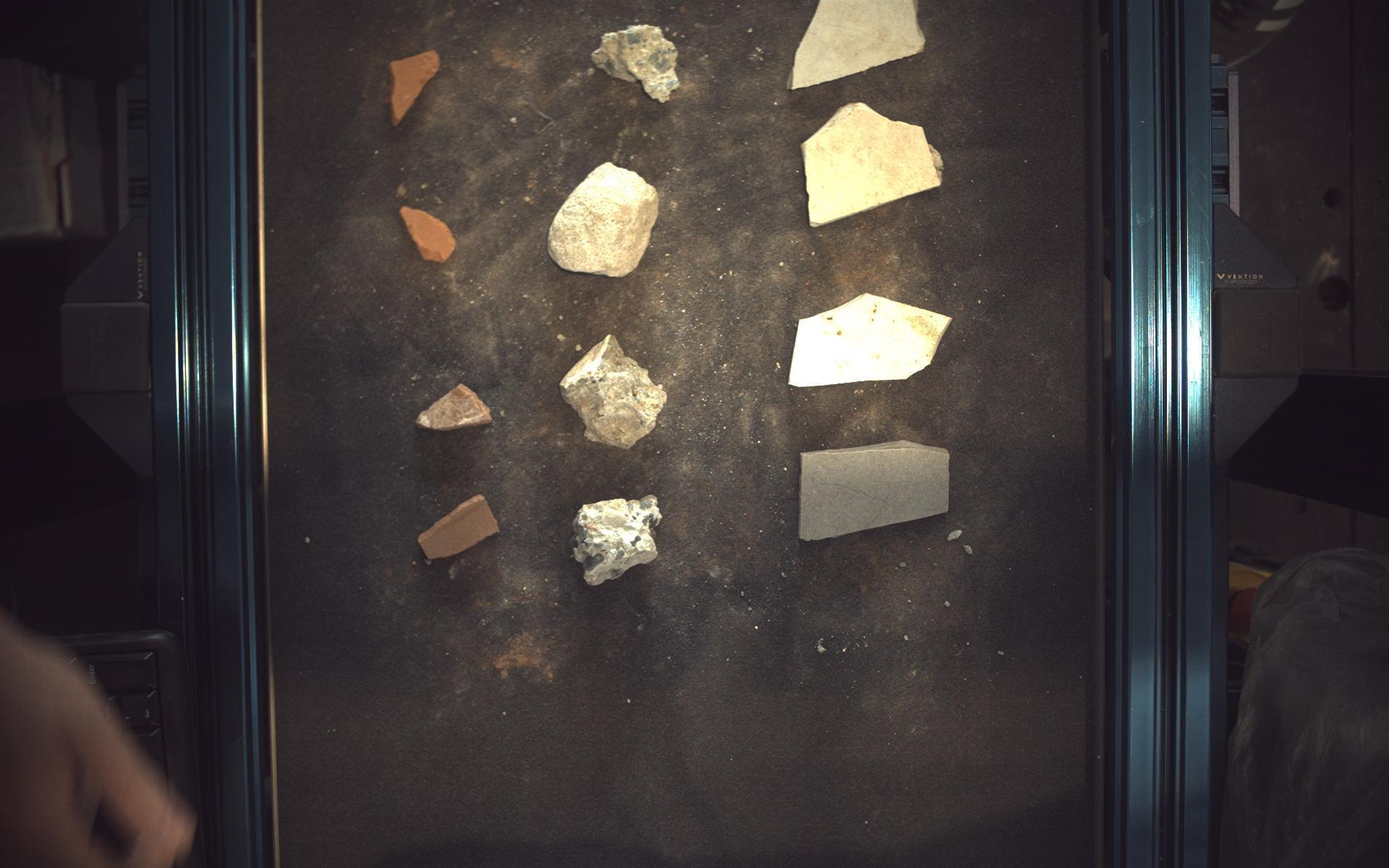brick: (417, 495, 498, 561), (390, 48, 439, 124), (416, 384, 492, 430), (400, 205, 456, 262)
concrete: (549, 161, 659, 276), (561, 334, 668, 449), (572, 495, 662, 586), (592, 23, 681, 101)
tile: (803, 101, 943, 226), (790, 293, 953, 387), (800, 441, 951, 541), (789, 1, 927, 88)
